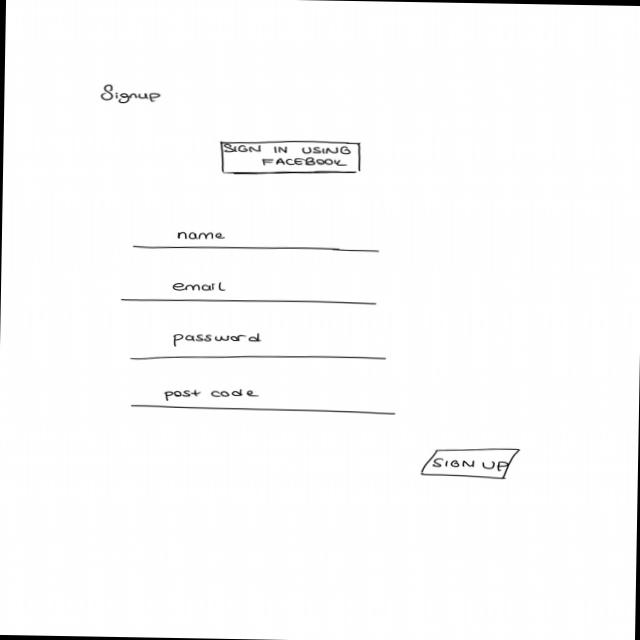button: (220, 138, 366, 179), (418, 446, 523, 482)
input: (128, 327, 389, 366), (130, 386, 398, 417), (120, 279, 379, 308), (132, 229, 382, 255)
label: (99, 84, 164, 106)
